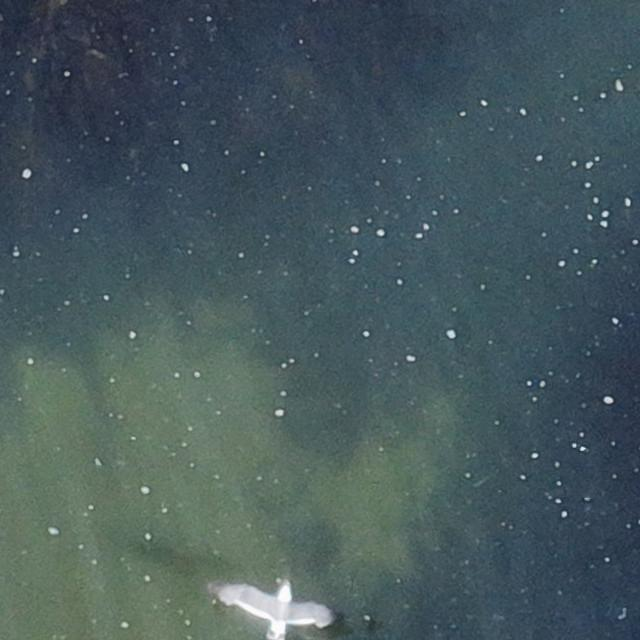F: (216, 576, 334, 638)
